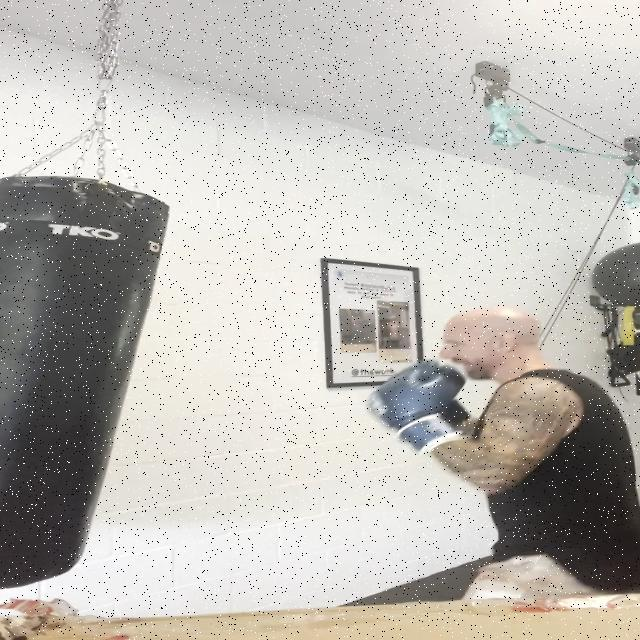bag: (0, 170, 169, 589)
no punch: (355, 304, 640, 492)
